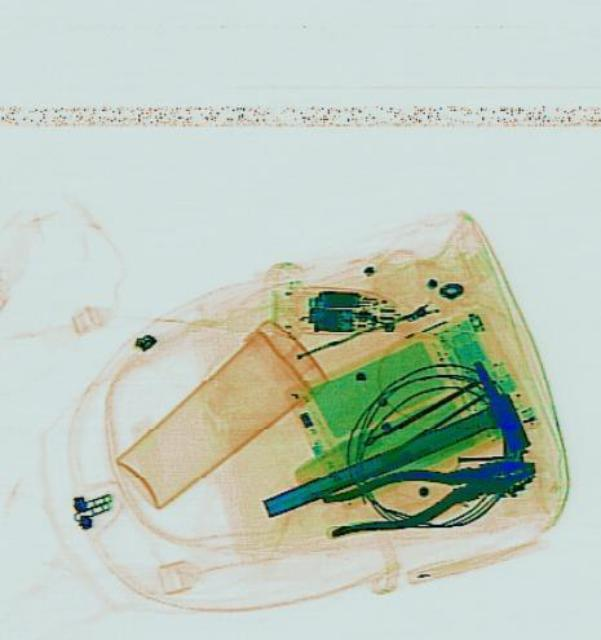Pliers: (316, 436, 541, 546)
